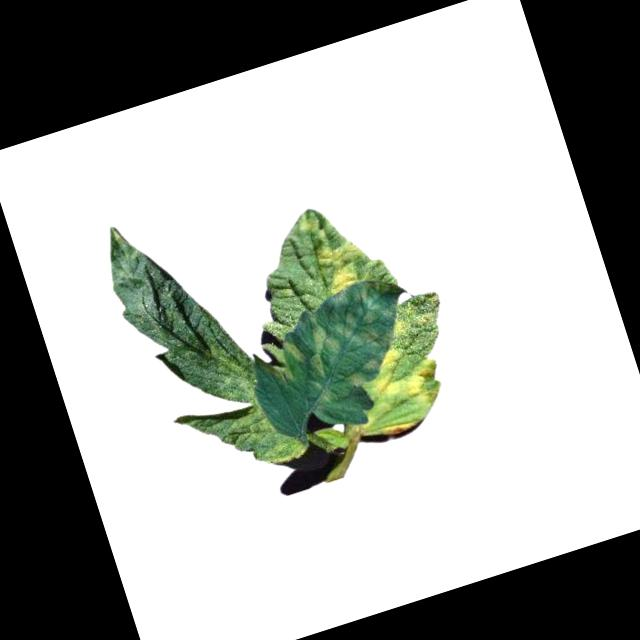Leaf_Mold: (285, 271, 427, 401), (358, 332, 450, 422), (302, 212, 370, 295), (377, 410, 420, 440)
